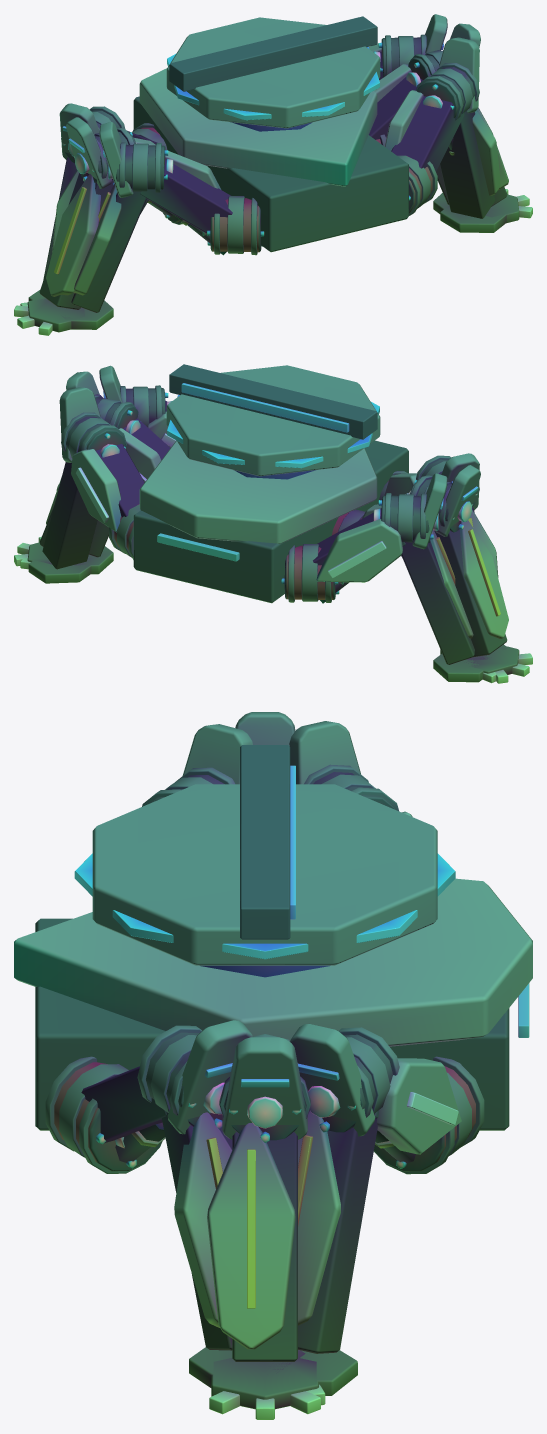
The model's file is mech_beetle.glb.
3 renders of one model, top to bottom at view 1: azimuth 30°, elevation 25°; view 2: azimuth 150°, elevation 25°; view 3: azimuth 270°, elevation 25°, orthographic. The views are drawn at different scales.
Visible parts, largest first — view 1: Spinner_Y_0__armor_sub, Body__armor, Body__dark, Spinner_Y_0__dark, Hip_5_Knee__dark, Hip_4__dark, Hip_4_Knee__dark, Hip_2_Knee__armor, Hip_5__dark, Hip_5_Knee__gunmetal, Hip_4_Knee__gunmetal, Hip_4_Knee__armor (+26 smaller); view 2: Body__armor, Spinner_Y_0__armor_sub, Body__dark, Spinner_Y_0__dark, Hip_0_Knee__dark, Hip_1_Knee__dark, Hip_0__armor, Spinner_Y_0__emit_core, Hip_2_Knee__armor, Hip_2_Knee__dark, Hip_1__armor, Hip_0_Knee__gunmetal (+28 smaller); view 3: Body__armor, Spinner_Y_0__armor_sub, Body__dark, Hip_3_Knee__armor, Spinner_Y_0__dark, Hip_1_Knee__dark, Hip_5_Knee__armor, Hip_1_Knee__armor, Hip_5__dark, Hip_3_Knee__armor_sub, Hip_1__armor, Spinner_Y_0__emit_core (+20 smaller).
Part boxes in pixels (left/top/right/bottom): Spinner_Y_0__armor_sub: left=166, top=17, right=380, bottom=128; Body__armor: left=139, top=68, right=377, bottom=186; Body__dark: left=133, top=96, right=408, bottom=252; Spinner_Y_0__dark: left=169, top=16, right=377, bottom=91; Hip_5_Knee__dark: left=417, top=67, right=495, bottom=218; Hip_4__dark: left=140, top=159, right=261, bottom=255; Hip_4_Knee__dark: left=71, top=145, right=165, bottom=312; Hip_2_Knee__armor: left=46, top=174, right=100, bottom=296; Hip_5__dark: left=391, top=96, right=464, bottom=212; Hip_5_Knee__gunmetal: left=416, top=63, right=506, bottom=232; Hip_4_Knee__gunmetal: left=61, top=142, right=161, bottom=329; Hip_4_Knee__armor: left=73, top=183, right=121, bottom=295; Body__armor: left=139, top=440, right=377, bottom=543; Spinner_Y_0__armor_sub: left=166, top=365, right=380, bottom=476; Body__dark: left=133, top=440, right=408, bottom=603; Spinner_Y_0__dark: left=169, top=364, right=377, bottom=439; Hip_0_Knee__dark: left=381, top=495, right=474, bottom=664; Hip_1_Knee__dark: left=42, top=416, right=126, bottom=569; Hip_0__armor: left=316, top=519, right=402, bottom=582; Spinner_Y_0__emit_core: left=167, top=383, right=379, bottom=468; Hip_2_Knee__armor: left=460, top=520, right=508, bottom=638; Hip_2_Knee__dark: left=410, top=478, right=507, bottom=656; Hip_1__armor: left=71, top=449, right=121, bottom=532; Hip_0_Knee__gunmetal: left=384, top=493, right=483, bottom=682; Body__armor: left=14, top=878, right=532, bottom=1046; Spinner_Y_0__armor_sub: left=92, top=784, right=437, bottom=965; Body__dark: left=35, top=918, right=509, bottom=1130; Hip_3_Knee__armor: left=207, top=1123, right=295, bottom=1349; Spinner_Y_0__dark: left=240, top=745, right=290, bottom=939; Hip_1_Knee__dark: left=298, top=1034, right=392, bottom=1353; Hip_5_Knee__armor: left=174, top=1112, right=232, bottom=1327; Hip_1_Knee__armor: left=298, top=1111, right=340, bottom=1325; Hip_5__dark: left=54, top=1062, right=166, bottom=1171; Hip_3_Knee__armor_sub: left=222, top=1037, right=307, bottom=1139; Hip_1__armor: left=376, top=1058, right=461, bottom=1154; Spinner_Y_0__emit_core: left=74, top=765, right=455, bottom=959.
Size of the model in its own units: 2.81 by 1.17 by 1.44.
